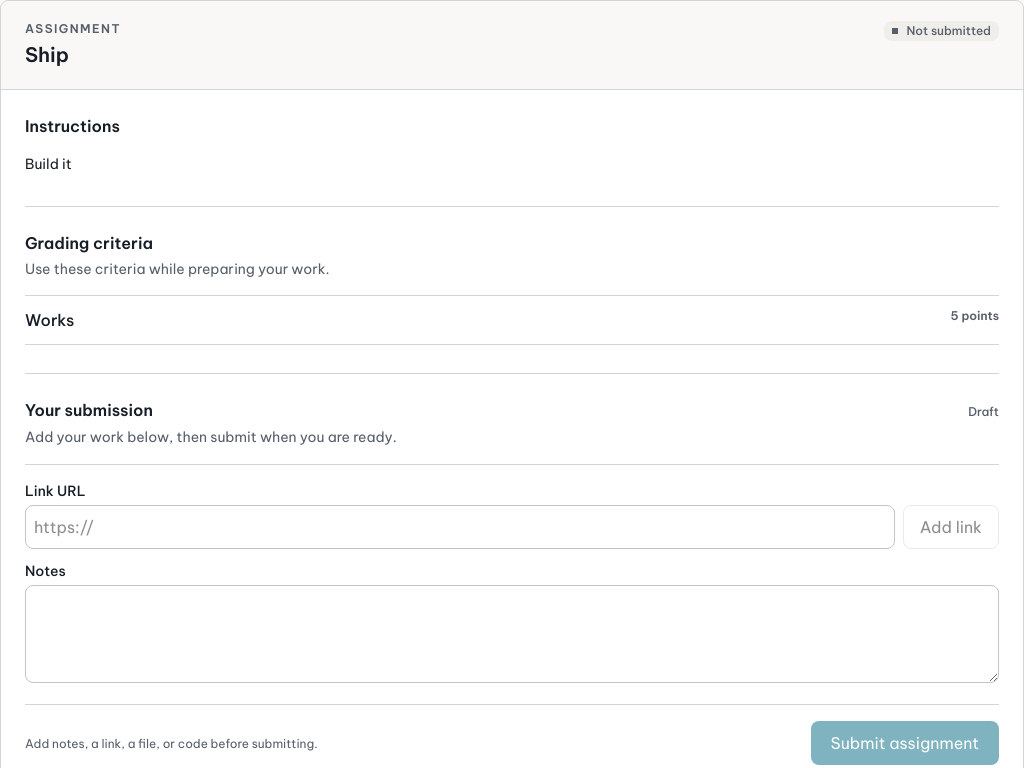
AssignmentRenderer › announces a successful submission and keeps the revision action available
In the text box labelled "Notes": x=512, y=634 [25, 585, 999, 683], type "Here is my product"
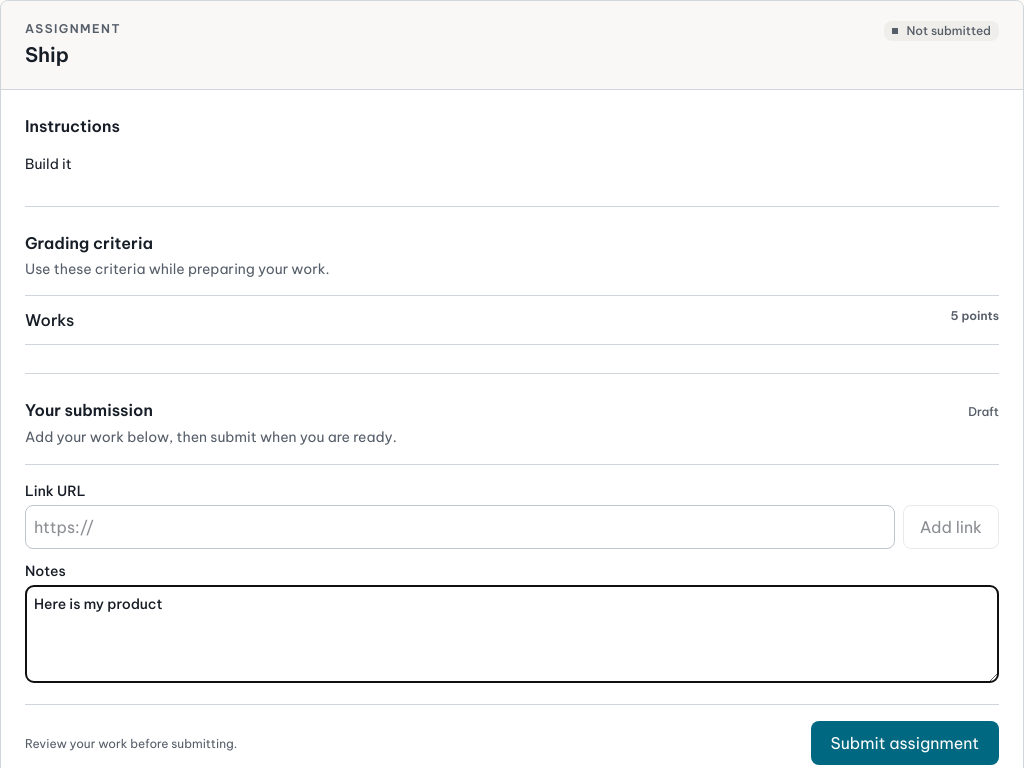
Click the button "Submit assignment": x=905, y=743 [810, 721, 999, 765]
(page scrolled)
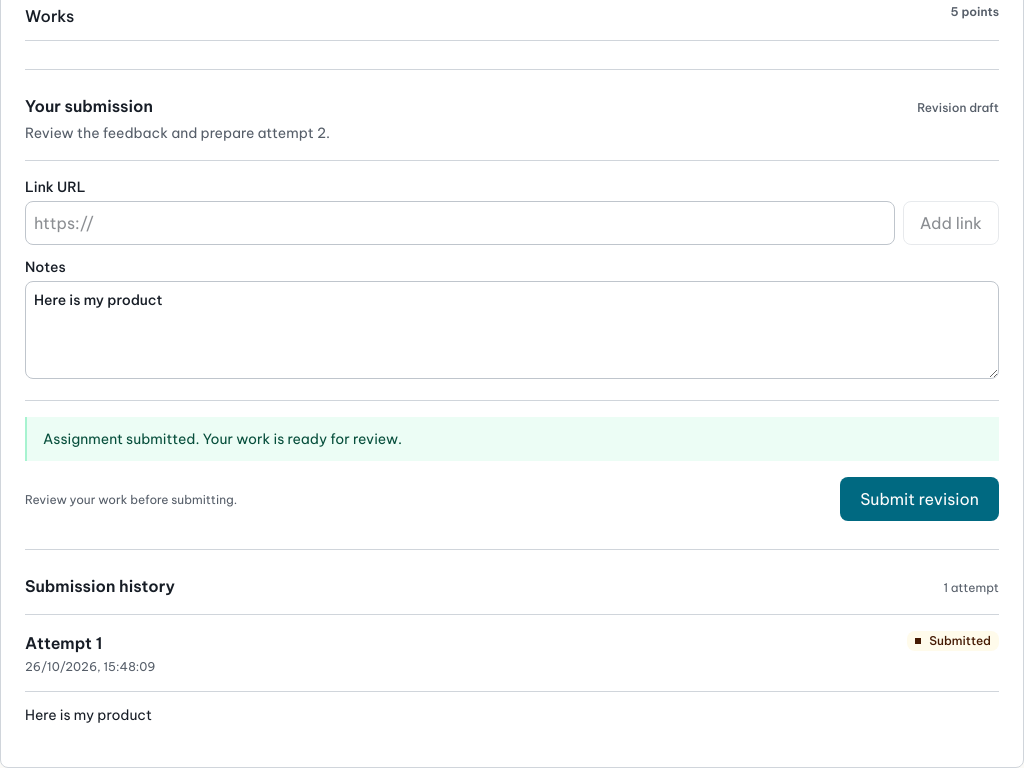
Expected: the button "Submit revision" is enabled, [840, 477, 999, 521]
Expected: the message reads "Assignment submitted. Your work is ready for review.", [43, 430, 402, 448]
